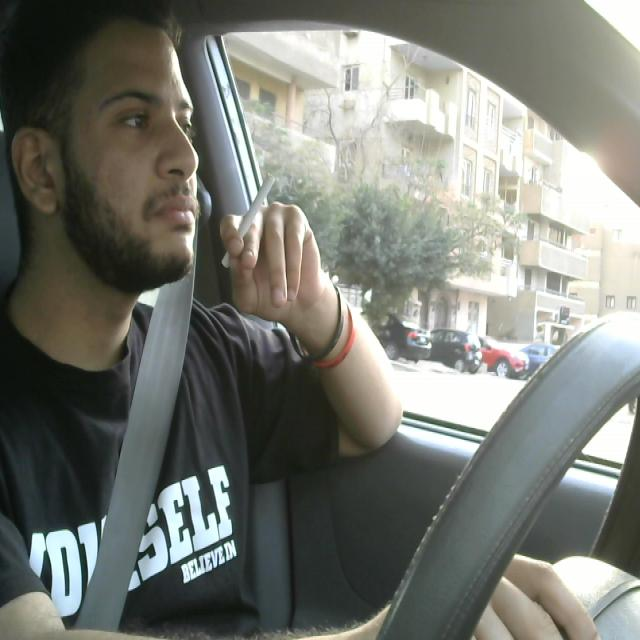smoking: (221, 171, 274, 270)
